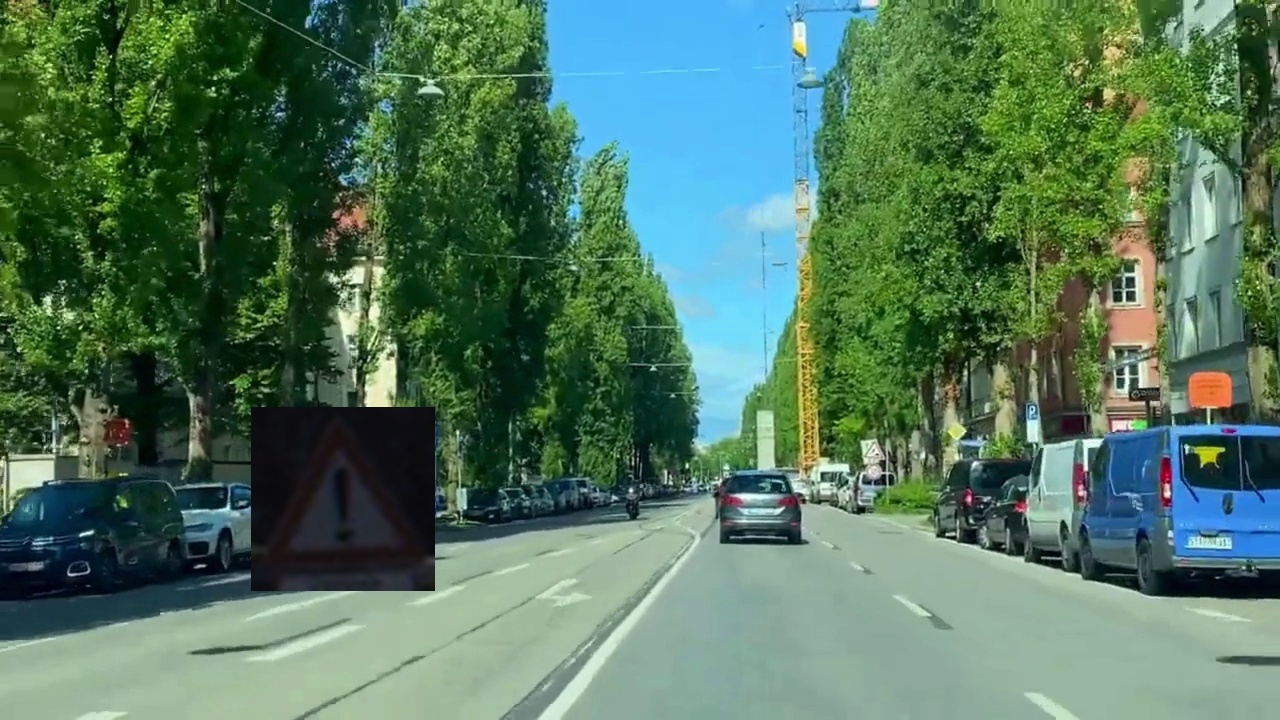Caution: (251, 407, 435, 591)
